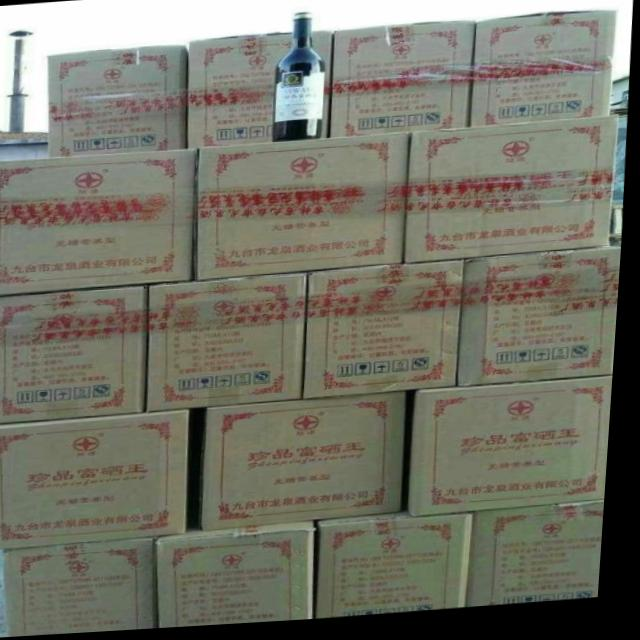box: (409, 121, 623, 266), (202, 135, 413, 282), (0, 150, 198, 297), (418, 384, 618, 518), (211, 396, 408, 531), (0, 412, 195, 547), (465, 253, 623, 391), (153, 277, 310, 413), (312, 267, 469, 402), (0, 288, 150, 426), (471, 19, 615, 132), (331, 27, 472, 141), (166, 526, 322, 627), (45, 48, 187, 158), (324, 518, 476, 620), (13, 538, 164, 638), (471, 508, 612, 612), (188, 35, 294, 150)
